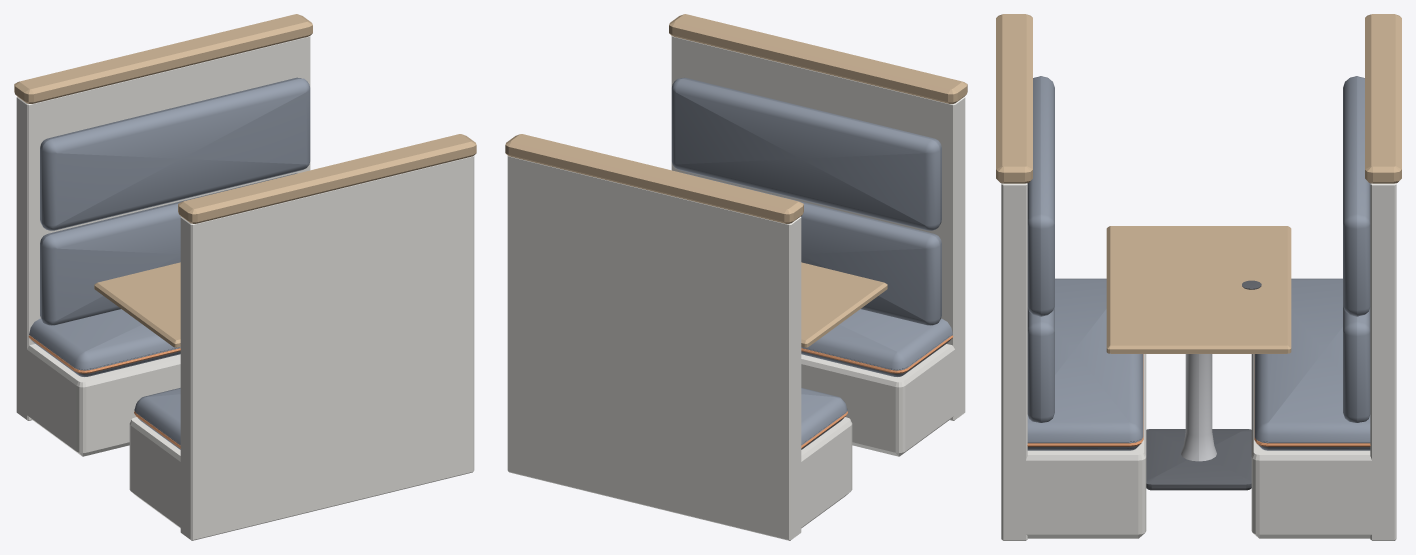
Rendered from downtown-office-interiors-collaboration-booth-2-seat-e6856b59__17028.glb.
The picture shows the model from 3 angles, left to right: view 1: azimuth 30°, elevation 25°; view 2: azimuth 150°, elevation 25°; view 3: azimuth 270°, elevation 25°; orthographic projection. The views are drawn at different scales.
Parts seen in each view (by area): view 1: collaboration-booth-2-seat; view 2: collaboration-booth-2-seat; view 3: collaboration-booth-2-seat.
Boxes of the visible parts, x1=… form: collaboration-booth-2-seat: x1=14, y1=14, x2=476, y2=540; collaboration-booth-2-seat: x1=505, y1=14, x2=967, y2=540; collaboration-booth-2-seat: x1=996, y1=14, x2=1401, y2=540.
Size of the model in its own units: 1.42 by 1.56 by 1.54.
